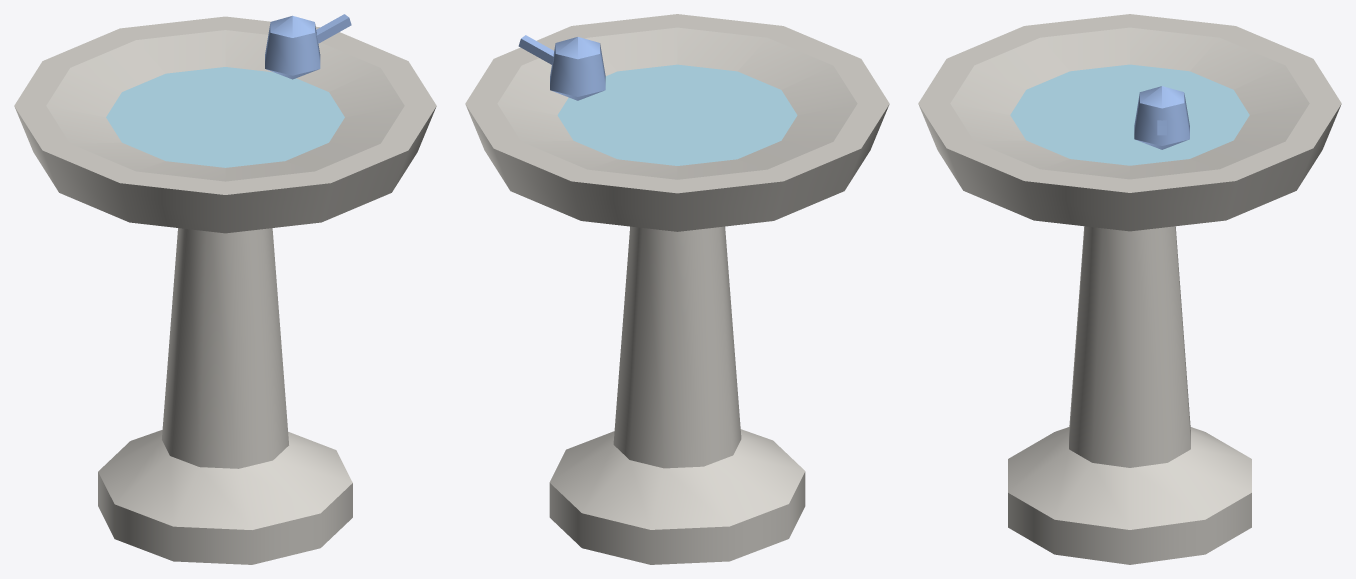
The model's file is gardenBirdbath.glb.
3 views of the same model, side by side, from view 1: azimuth 30°, elevation 25°; view 2: azimuth 150°, elevation 25°; view 3: azimuth 270°, elevation 25° (orthographic).
Visible parts, largest first — view 1: gardenBirdbath; view 2: gardenBirdbath; view 3: gardenBirdbath.
Part boxes in pixels (x1,y1,x2,y2): gardenBirdbath: (14,14,436,564); gardenBirdbath: (465,14,889,564); gardenBirdbath: (918,14,1341,564).
Bounding box in the file's own units: 0.33 × 0.4 × 0.33.
